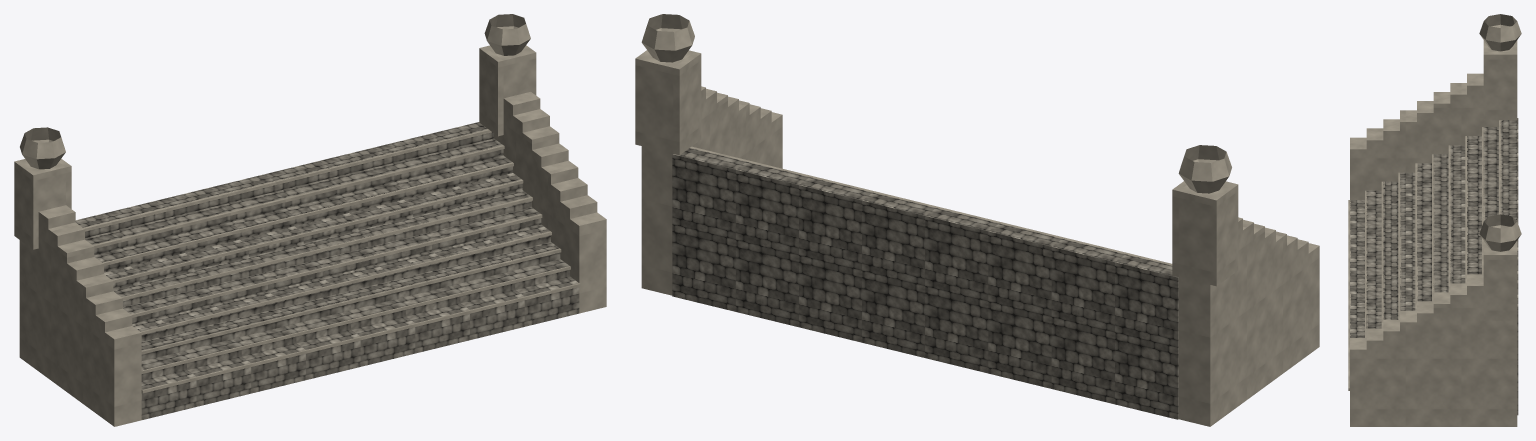
The model's file is Stairs_Monumental_1.gltf.
3 views of the same model, side by side, from view 1: azimuth 30°, elevation 25°; view 2: azimuth 150°, elevation 25°; view 3: azimuth 270°, elevation 25° (orthographic). The views are drawn at different scales.
Parts seen in each view (by area): view 1: Stairs_Monumental_1; view 2: Stairs_Monumental_1; view 3: Stairs_Monumental_1.
Boxes of the visible parts, box(x1,y1,x2,y2) form: Stairs_Monumental_1: box(14, 14, 606, 426); Stairs_Monumental_1: box(635, 14, 1319, 426); Stairs_Monumental_1: box(1348, 14, 1521, 426).
Size of the model in its own units: 9.26 by 3.95 by 3.11.
2 materials, 2 textured.
